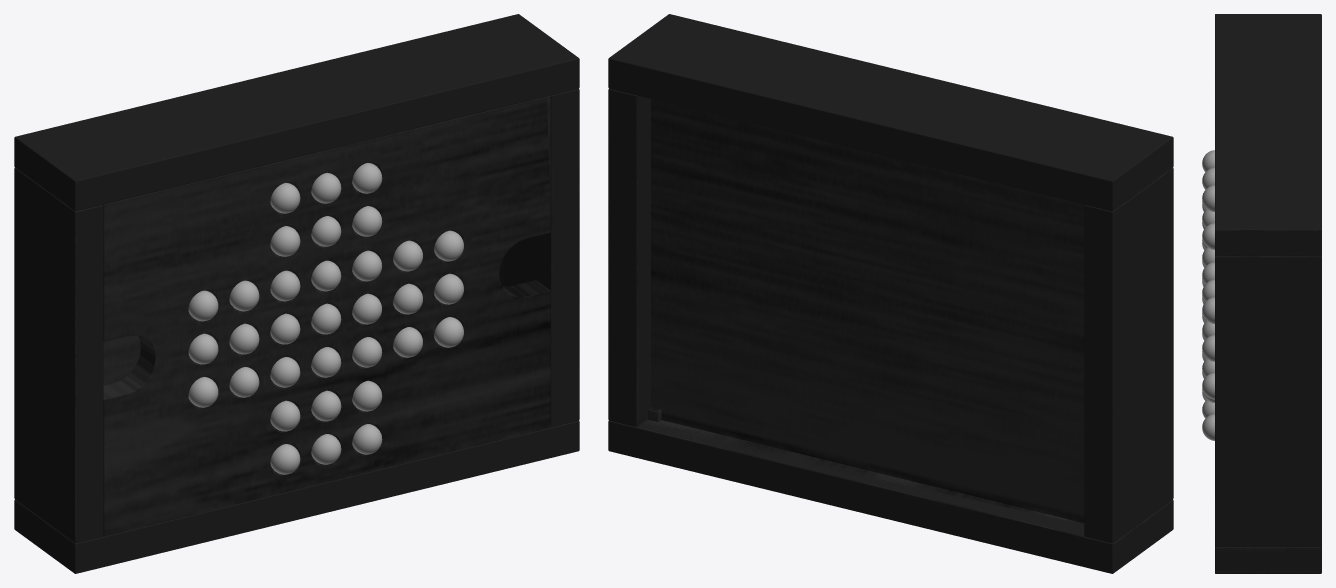
Rendered from game-box-black.glb.
3 renders of one model, left to right at view 1: azimuth 30°, elevation 25°; view 2: azimuth 150°, elevation 25°; view 3: azimuth 270°, elevation 25°, orthographic. The views are drawn at different scales.
Parts seen in each view (by area): view 1: Cube.003, Sphere.002; view 2: Cube.003; view 3: Cube.003, Sphere.002.
Part boxes in pixels (box(x1,y1,x2,y2)): Cube.003: box(14, 14, 579, 573); Sphere.002: box(188, 163, 463, 474); Cube.003: box(608, 14, 1173, 573); Cube.003: box(1215, 14, 1321, 573); Sphere.002: box(1202, 150, 1214, 440).
Size of the model in its own units: 0.172 by 0.128 by 0.0403.
Materials: 2 (1 with a texture image).
